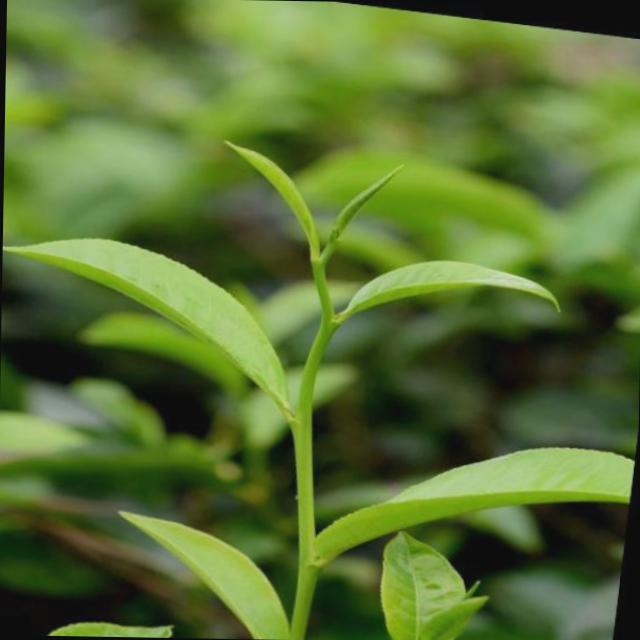Stem: (320, 315, 335, 328)
